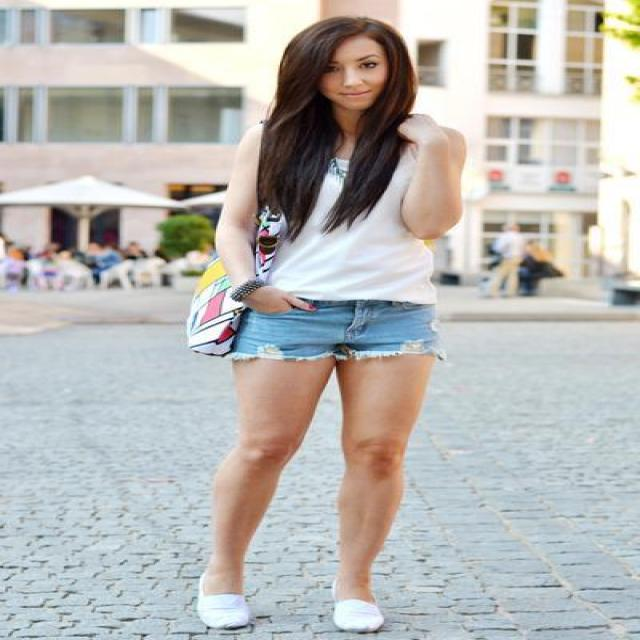bag: (187, 278, 251, 374)
shirt: (250, 143, 440, 303)
shoe: (197, 591, 382, 628)
shorts: (236, 298, 442, 370)
